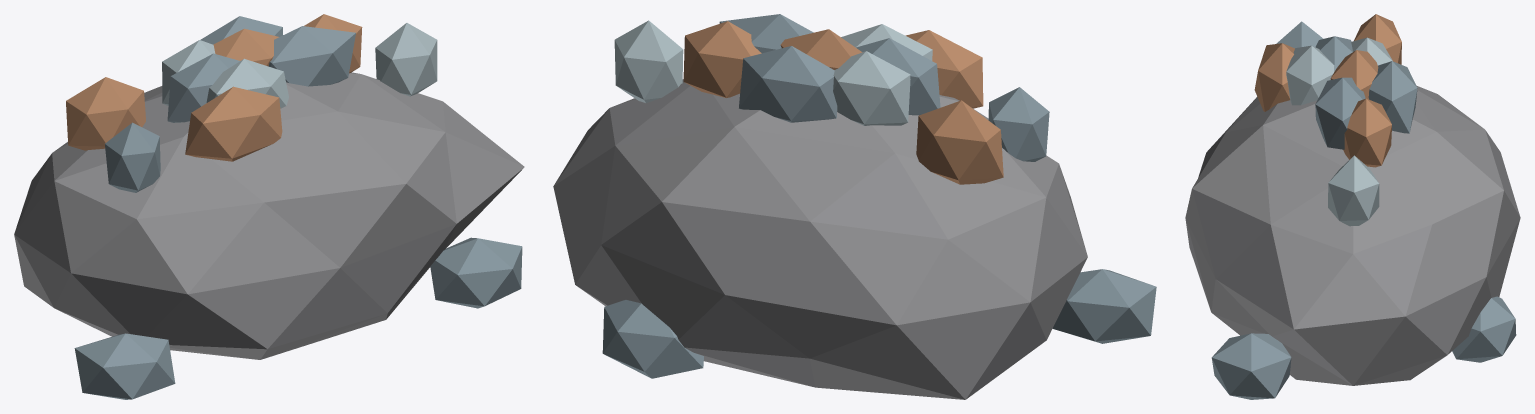
Rendered from cave_detail_ore_iron.glb.
3 renders of one model, left to right at view 1: azimuth 30°, elevation 25°; view 2: azimuth 150°, elevation 25°; view 3: azimuth 270°, elevation 25°, orthographic. The views are drawn at different scales.
Visible parts, largest first — view 1: Weathered ore boulder.001, Exposed mineral seam 07.001, Loose ore chip.003, Loose ore chip.004, Exposed mineral seam 04.001, Exposed mineral seam 09.001, Exposed mineral seam 05.001, Exposed mineral seam 06.001, Exposed mineral seam 00.001, Exposed mineral seam 02.001, Exposed mineral seam 01.001, Exposed mineral seam 08.001 (+2 smaller); view 2: Weathered ore boulder.001, Exposed mineral seam 03.001, Loose ore chip.003, Exposed mineral seam 04.001, Loose ore chip.005, Exposed mineral seam 08.001, Exposed mineral seam 05.001, Exposed mineral seam 10.001, Exposed mineral seam 06.001, Exposed mineral seam 07.001, Exposed mineral seam 00.001, Exposed mineral seam 09.001 (+2 smaller); view 3: Weathered ore boulder.001, Loose ore chip.004, Exposed mineral seam 05.001, Loose ore chip.005, Exposed mineral seam 10.001, Exposed mineral seam 03.001, Exposed mineral seam 09.001, Exposed mineral seam 02.001, Exposed mineral seam 07.001, Exposed mineral seam 01.001, Exposed mineral seam 04.001, Exposed mineral seam 00.001 (+2 smaller).
Boxes of the visible parts, box(x1,y1,x2,y2) form: Weathered ore boulder.001: box(14, 72, 524, 359); Exposed mineral seam 07.001: box(185, 86, 282, 161); Loose ore chip.003: box(74, 333, 175, 399); Loose ore chip.004: box(430, 237, 522, 308); Exposed mineral seam 04.001: box(66, 77, 145, 150); Exposed mineral seam 09.001: box(268, 26, 355, 86); Exposed mineral seam 05.001: box(375, 23, 437, 96); Exposed mineral seam 06.001: box(105, 122, 160, 192); Exposed mineral seam 00.001: box(167, 53, 239, 122); Exposed mineral seam 02.001: box(206, 58, 288, 108); Exposed mineral seam 01.001: box(213, 28, 278, 66); Exposed mineral seam 08.001: box(162, 40, 215, 105); Weathered ore boulder.001: box(553, 79, 1087, 399); Exposed mineral seam 03.001: box(739, 46, 837, 122); Loose ore chip.003: box(1052, 269, 1156, 343); Exposed mineral seam 04.001: box(916, 100, 1003, 184); Loose ore chip.005: box(602, 300, 703, 378); Exposed mineral seam 08.001: box(833, 51, 910, 125); Exposed mineral seam 05.001: box(614, 20, 683, 103); Exposed mineral seam 10.001: box(683, 21, 761, 97); Exposed mineral seam 06.001: box(988, 87, 1049, 161); Exposed mineral seam 07.001: box(905, 30, 983, 108); Exposed mineral seam 00.001: box(856, 38, 940, 115); Exposed mineral seam 09.001: box(719, 14, 813, 53); Weathered ore boulder.001: box(1185, 86, 1520, 385); Loose ore chip.004: box(1211, 333, 1291, 399); Exposed mineral seam 05.001: box(1328, 155, 1379, 226); Loose ore chip.005: box(1452, 296, 1516, 362); Exposed mineral seam 10.001: box(1343, 98, 1391, 167); Exposed mineral seam 03.001: box(1368, 61, 1417, 133); Exposed mineral seam 09.001: box(1315, 77, 1365, 149); Exposed mineral seam 02.001: box(1286, 45, 1334, 105); Exposed mineral seam 07.001: box(1254, 43, 1294, 111); Exposed mineral seam 01.001: box(1330, 50, 1378, 99); Exposed mineral seam 04.001: box(1354, 14, 1401, 64); Exposed mineral seam 00.001: box(1315, 36, 1352, 71).
Bounding box in the file's own units: 2.02 × 1.27 × 1.32.
